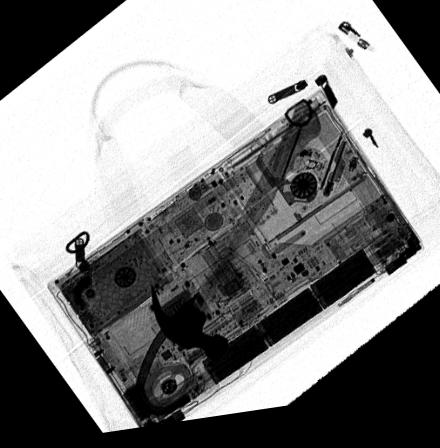Hammer: (150, 108, 321, 367)
